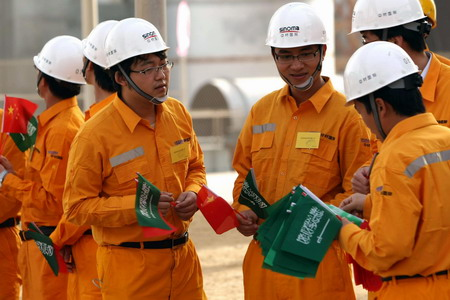Safety Helmet: (334, 37, 439, 149), (95, 11, 181, 117), (259, 1, 330, 98), (21, 30, 92, 119), (344, 1, 441, 48), (79, 8, 127, 95)
